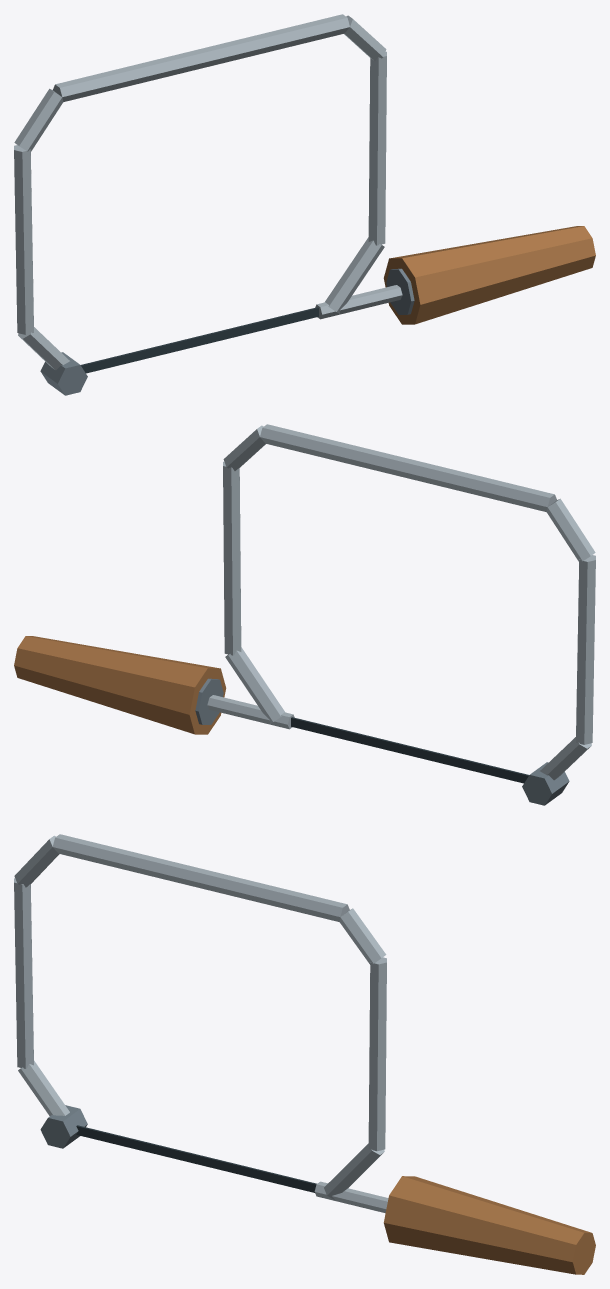
Rendered from b06_coping_saw.glb.
3 renders of one model, top to bottom at view 1: azimuth 30°, elevation 25°; view 2: azimuth 150°, elevation 25°; view 3: azimuth 330°, elevation 25°, orthographic.
Visible parts, largest first — view 1: b06_coping_saw; view 2: b06_coping_saw; view 3: b06_coping_saw.
Part boxes in pixels (left/top/right/bottom): b06_coping_saw: left=14, top=14, right=595, bottom=395; b06_coping_saw: left=14, top=424, right=595, bottom=805; b06_coping_saw: left=14, top=834, right=595, bottom=1274.
Bounding box in the file's own units: 0.341 × 0.1843 × 0.038.
